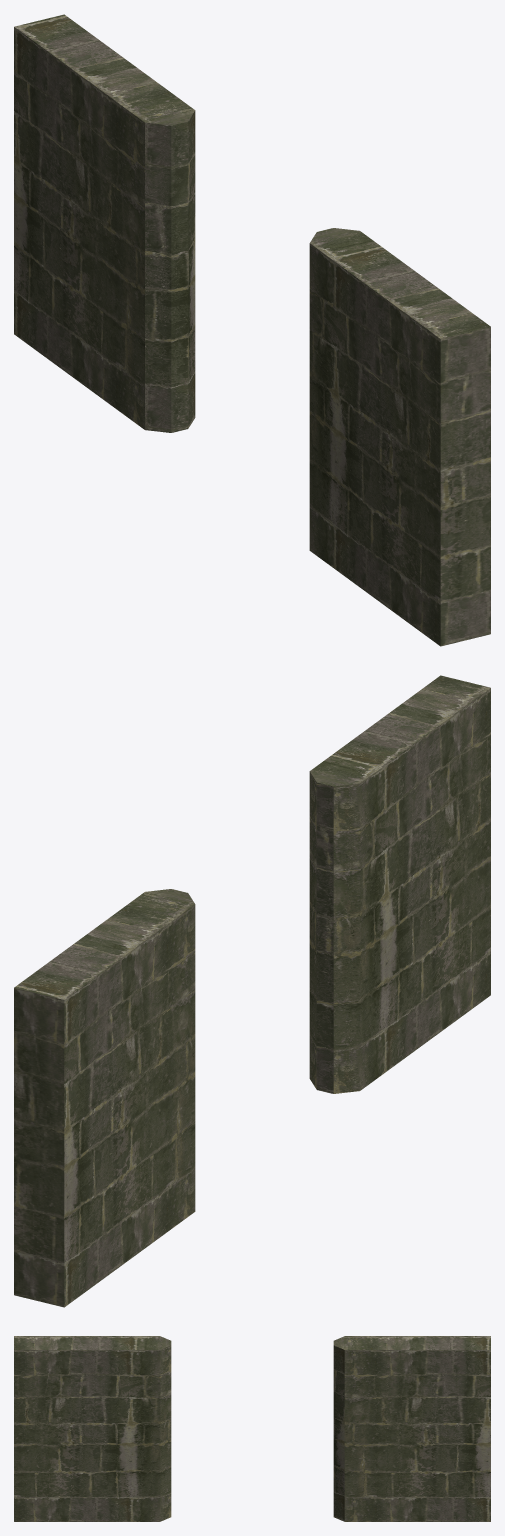
The model's file is HorizontalHalfWall_Archway_Pier.fbx.
3 views of the same model, one above another, from view 1: azimuth 30°, elevation 25°; view 2: azimuth 150°, elevation 25°; view 3: azimuth 270°, elevation 25° (orthographic). The views are drawn at different scales.
Visible parts, largest first — view 1: DoubleDoorway.009; view 2: DoubleDoorway.009; view 3: DoubleDoorway.009.
Boxes of the visible parts, x1,y1,x2,y2 form: DoubleDoorway.009: [14, 14, 490, 646]; DoubleDoorway.009: [14, 675, 490, 1307]; DoubleDoorway.009: [14, 1336, 490, 1521].
Size of the model in its own units: 51 by 298 by 748.
